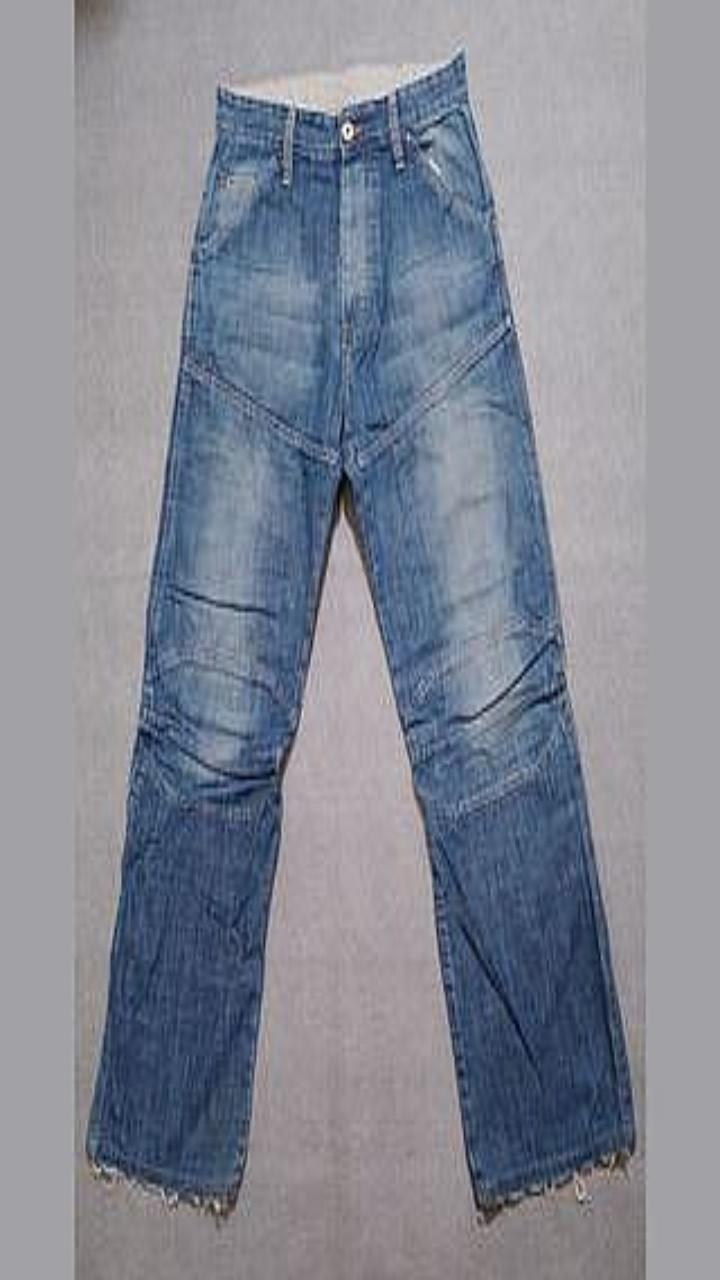Jeans: (86, 51, 634, 1217)
